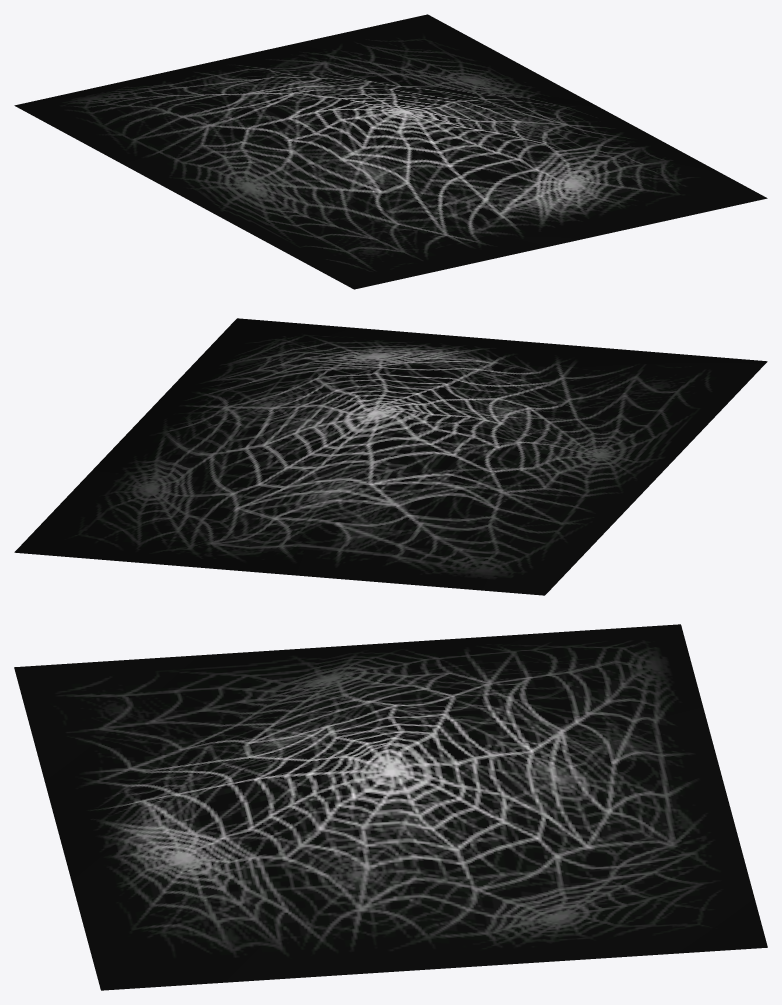
Rendered from MIRKWOOD_PLANE18.fbx.
3 views of the same model, one above another, from view 1: azimuth 30°, elevation 25°; view 2: azimuth 150°, elevation 25°; view 3: azimuth 270°, elevation 25° (orthographic). The views are drawn at different scales.
Visible parts, largest first — view 1: MIRKWOOD_PLANE18; view 2: MIRKWOOD_PLANE18; view 3: MIRKWOOD_PLANE18.
Boxes of the visible parts, x1,y1,x2,y2 form: MIRKWOOD_PLANE18: [14, 14, 767, 289]; MIRKWOOD_PLANE18: [14, 318, 767, 595]; MIRKWOOD_PLANE18: [14, 624, 767, 990].
Size of the model in its own units: 178999 by 21803 by 184109.
1 material, 1 textured.
